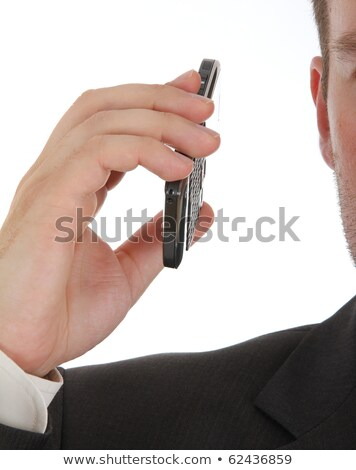phone: (147, 64, 220, 270)
